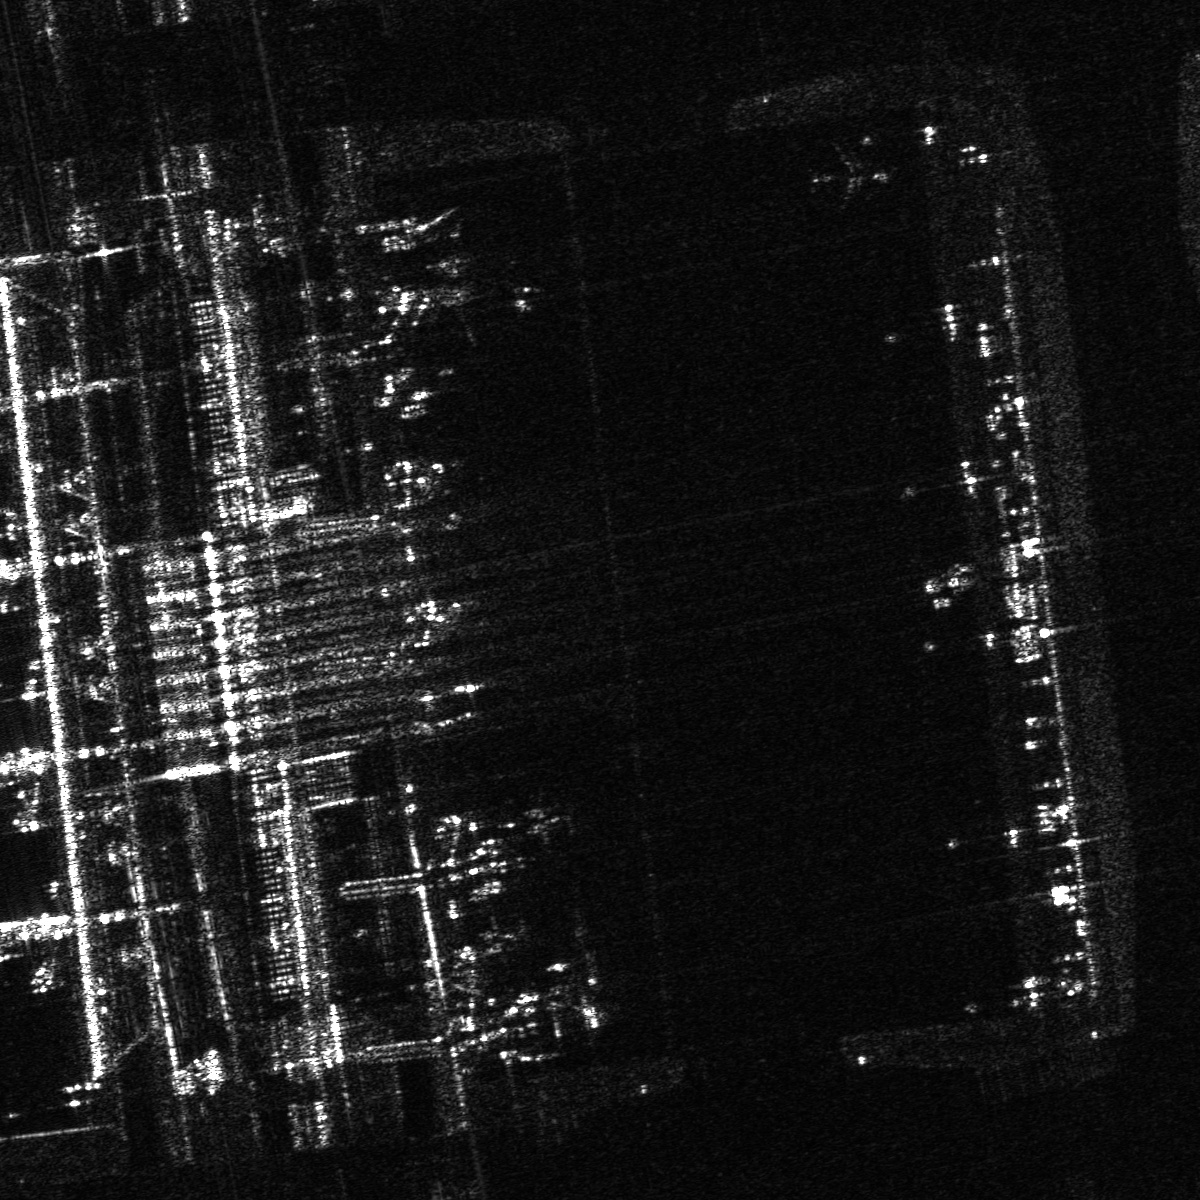Boeing737: (802, 142, 897, 218), (543, 977, 609, 1037)
